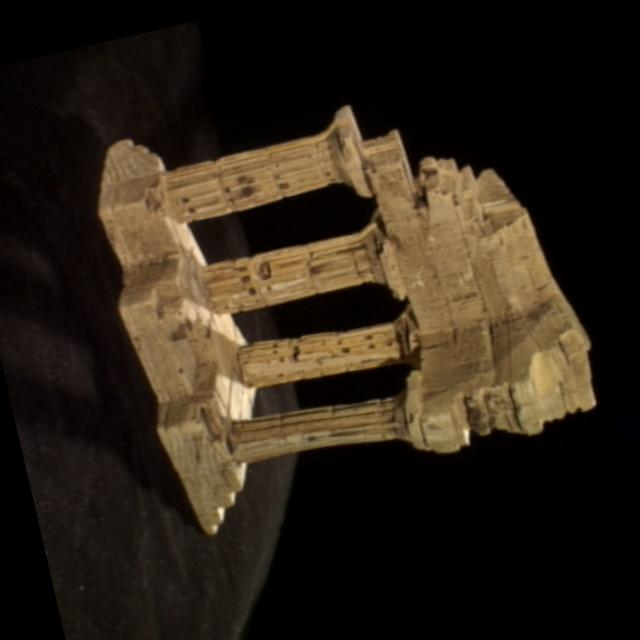Instance-Segmentation: (99, 107, 594, 534)
